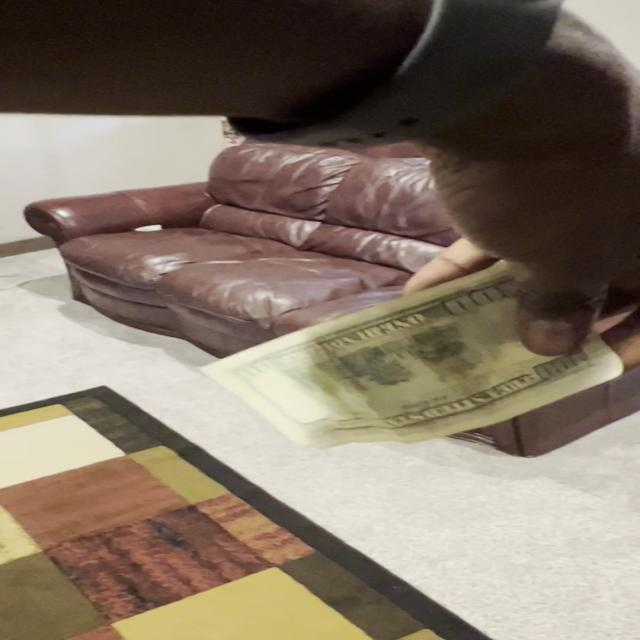hundred: (204, 259, 622, 450)
